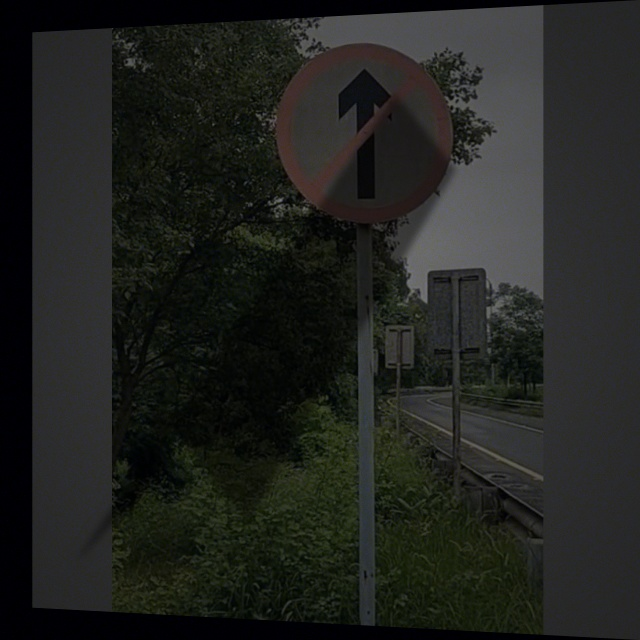No_Entry: (276, 41, 450, 224)
